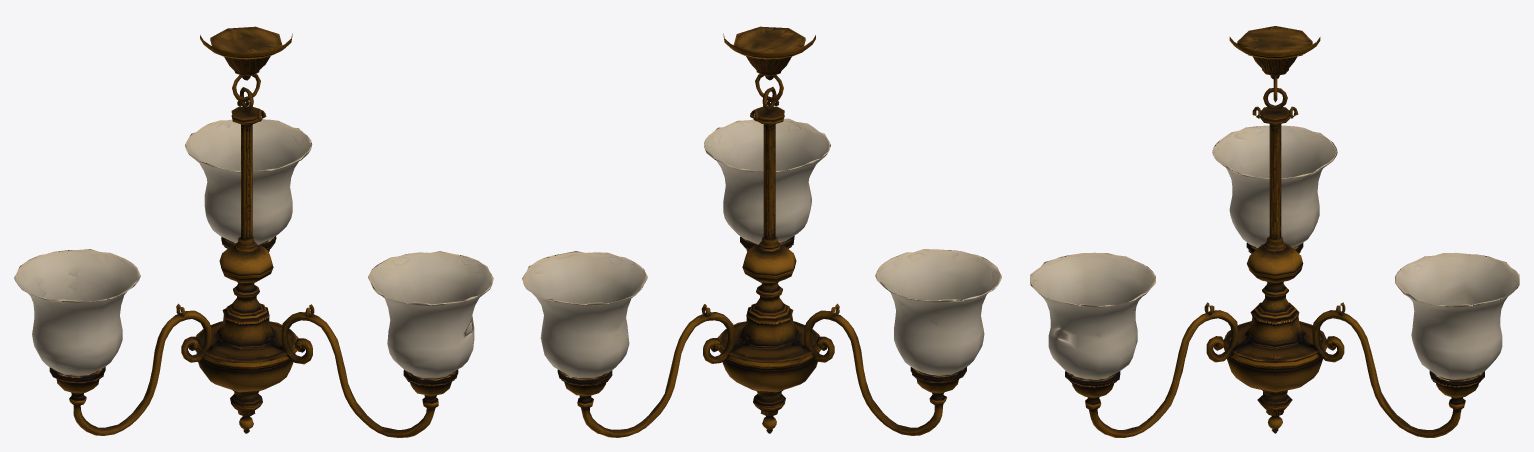
3 renders of one model, left to right at view 1: azimuth 30°, elevation 25°; view 2: azimuth 150°, elevation 25°; view 3: azimuth 270°, elevation 25°, orthographic.
Visible parts, largest first — view 1: tripo_node_abf25cc8-c0fc-494f-b7dd-390c79a8d0b6; view 2: tripo_node_abf25cc8-c0fc-494f-b7dd-390c79a8d0b6; view 3: tripo_node_abf25cc8-c0fc-494f-b7dd-390c79a8d0b6.
Boxes of the visible parts, box(x1,y1,x2,y2) form: tripo_node_abf25cc8-c0fc-494f-b7dd-390c79a8d0b6: box(14, 26, 493, 437); tripo_node_abf25cc8-c0fc-494f-b7dd-390c79a8d0b6: box(522, 26, 1001, 437); tripo_node_abf25cc8-c0fc-494f-b7dd-390c79a8d0b6: box(1030, 26, 1519, 437).
Size of the model in its own units: 0.877 by 0.9004 by 0.998.
Materials: 1 (1 with a texture image).
